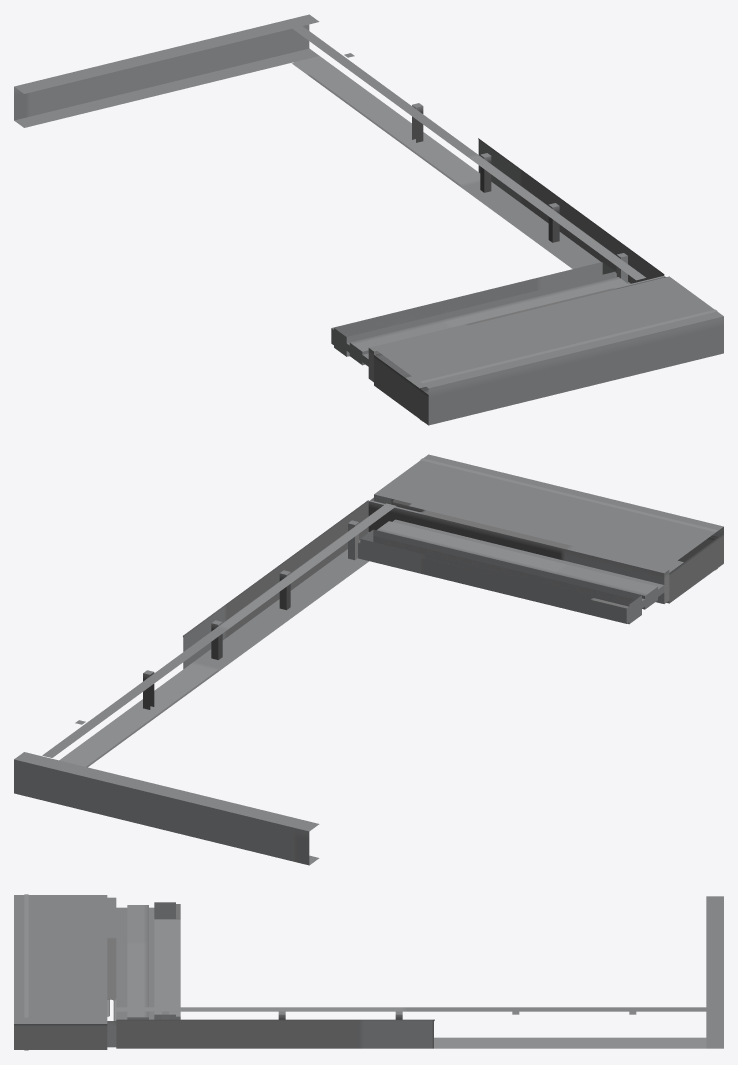
The picture shows the model from 3 angles, top to bottom: view 1: azimuth 30°, elevation 25°; view 2: azimuth 150°, elevation 25°; view 3: azimuth 270°, elevation 25°; orthographic projection. The views are drawn at different scales.
Size of the model in its own units: 1 by 0.124 by 2.43.
